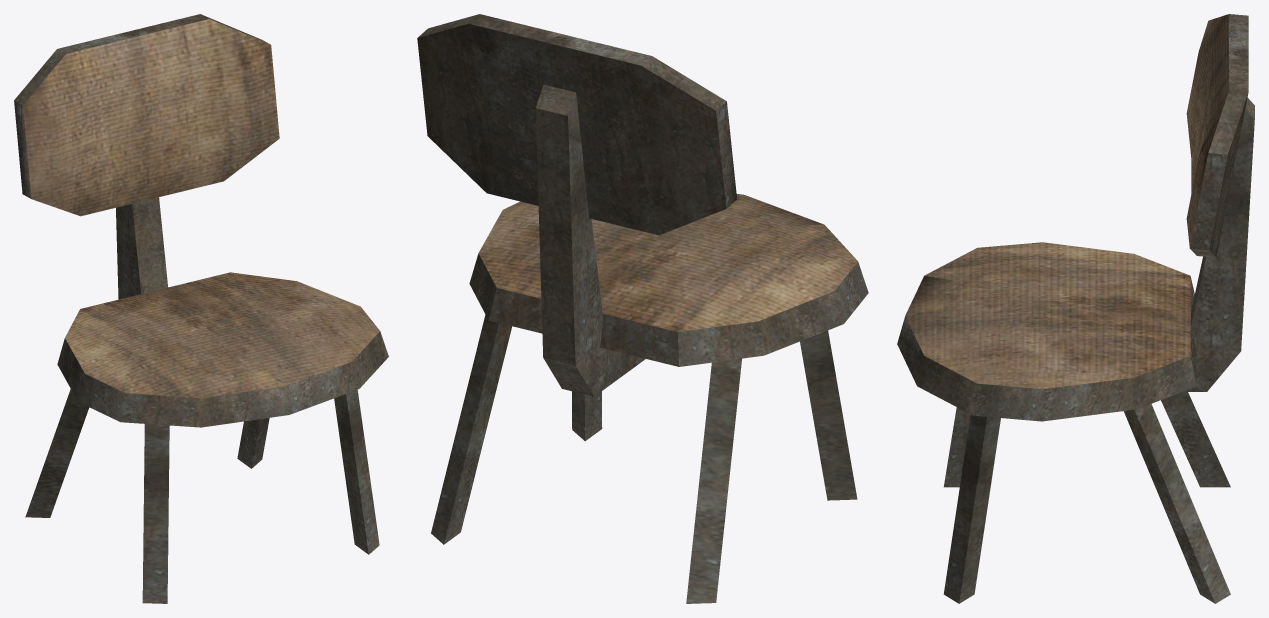
File: frn_tato_chair_cafe_s01_l0.fbx
3 views of the same model, side by side, from view 1: azimuth 30°, elevation 25°; view 2: azimuth 150°, elevation 25°; view 3: azimuth 270°, elevation 25° (orthographic). The views are drawn at different scales.
Visible parts, largest first — view 1: mesh_node; view 2: mesh_node; view 3: mesh_node.
Boxes of the visible parts, left/top/right/bottom form: mesh_node: left=14, top=14, right=388, bottom=603; mesh_node: left=417, top=14, right=868, bottom=603; mesh_node: left=897, top=14, right=1254, bottom=603.
Size of the model in its own units: 0.59 by 0.8683 by 0.5761.
